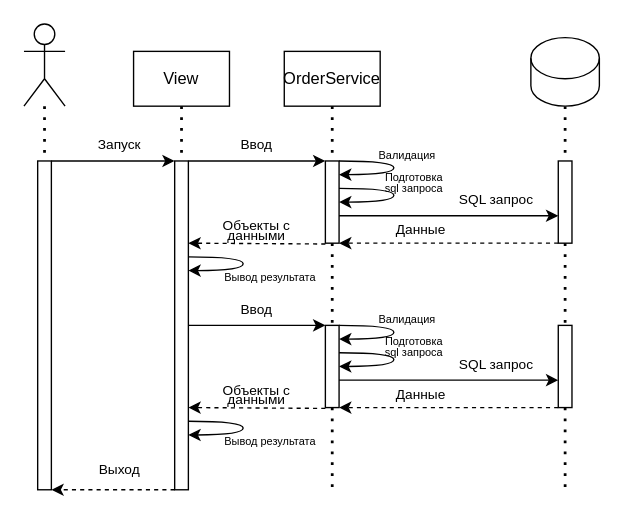
This 623x525 diagram has some shape labels left out. The shapes that lost their labels are listed below. From the top down, each one's box as (x1, y1, x2, y2) in pixels, then its label:
(23, 23, 65, 106): Actor
(530, 36, 599, 106): DB
